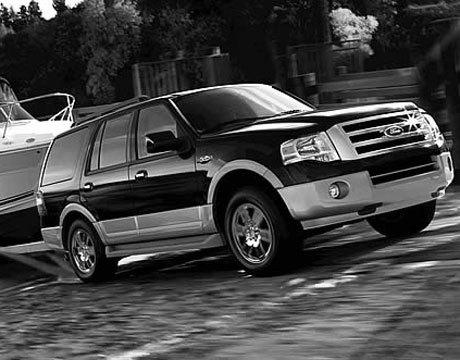car: (36, 85, 459, 278)
